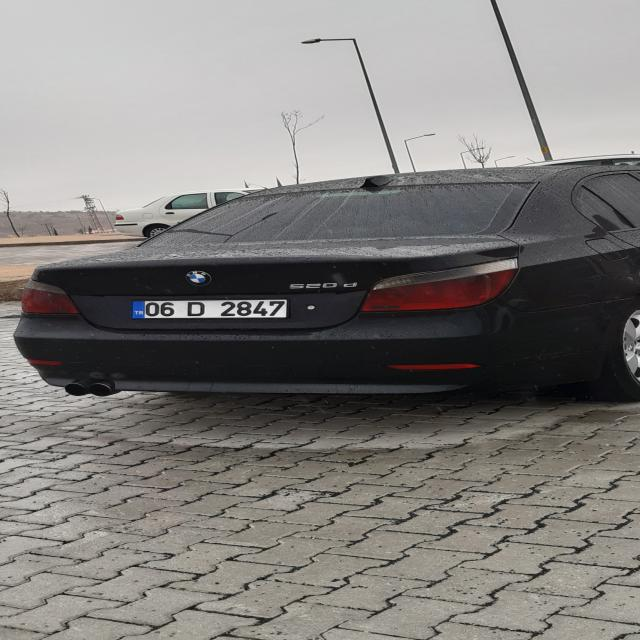license_plate: (131, 300, 289, 319)
